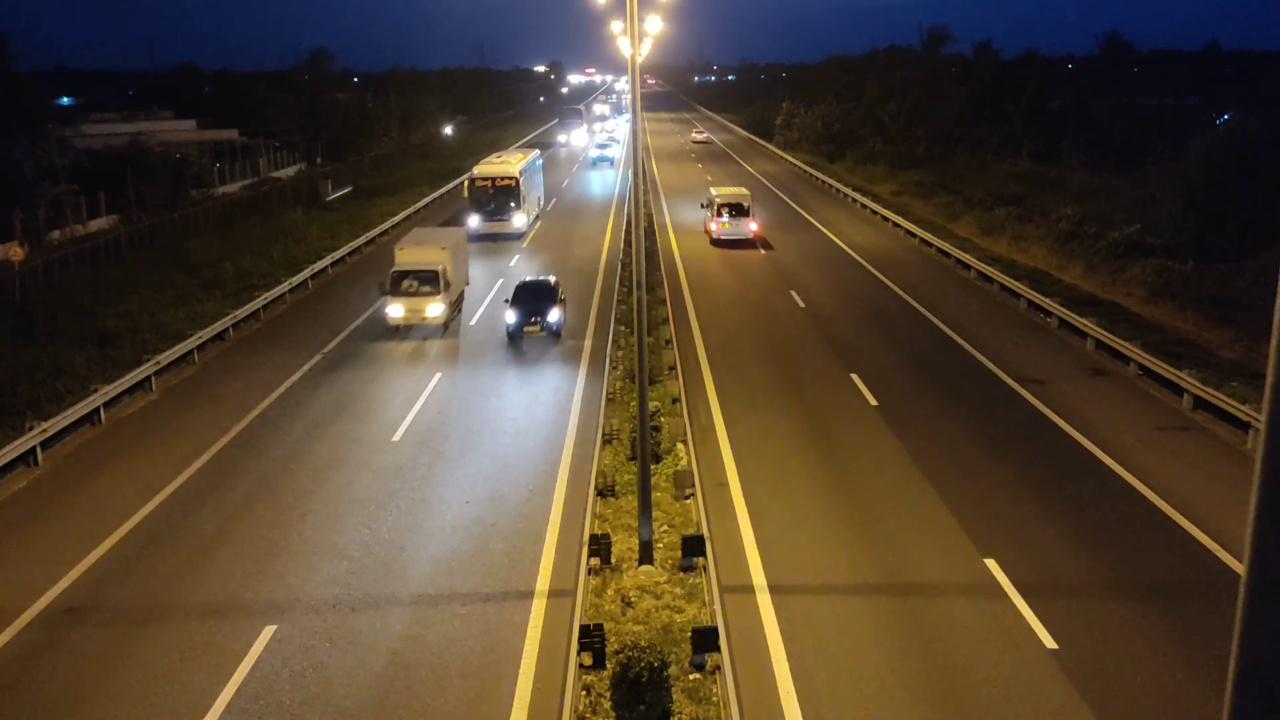bus: (465, 146, 545, 240)
car: (503, 276, 567, 341)
truck: (378, 220, 474, 334)
